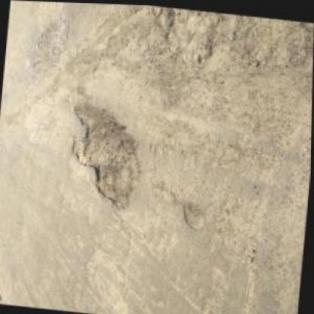Hueco: (64, 98, 148, 214), (180, 200, 208, 231)
